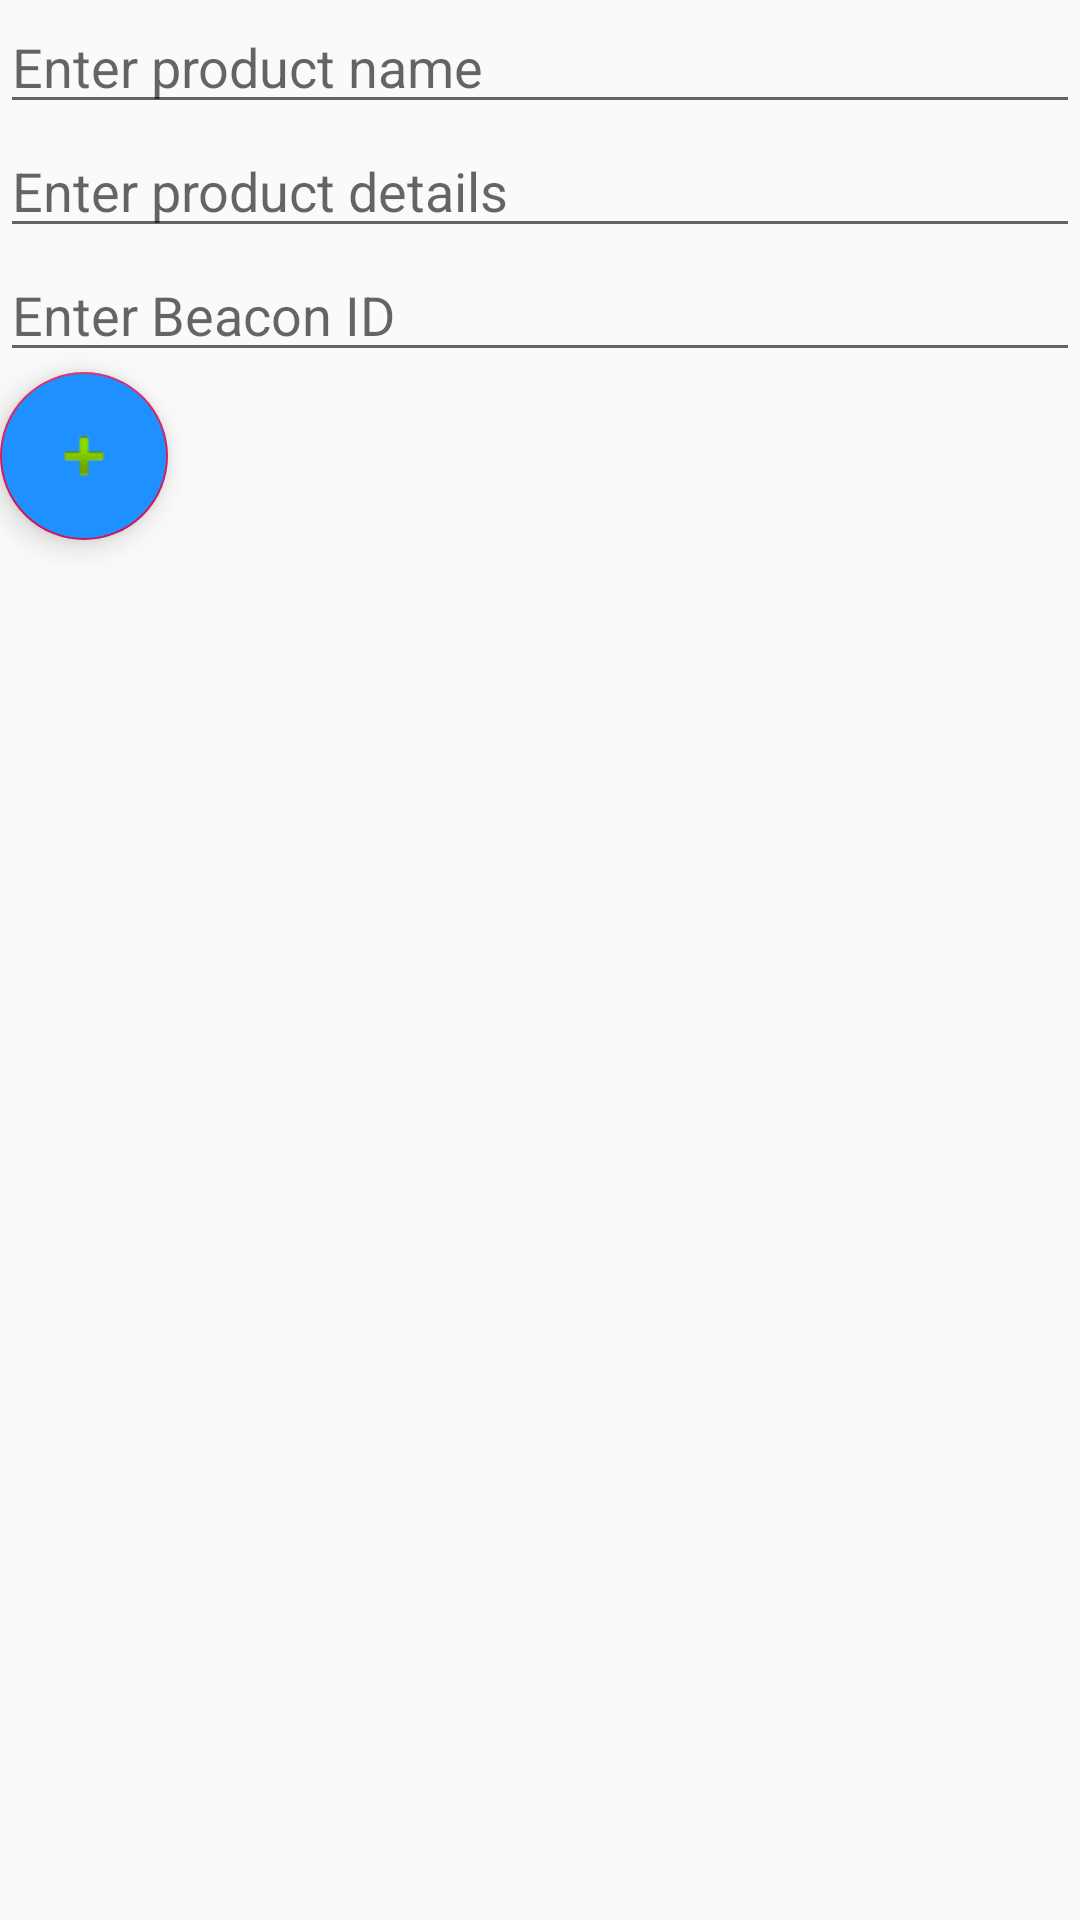

Named icons in this screenshot (1080w x 1920h) and their bounding boxes, (x1, y1, x2, y2):
add: (0, 372, 168, 540)
